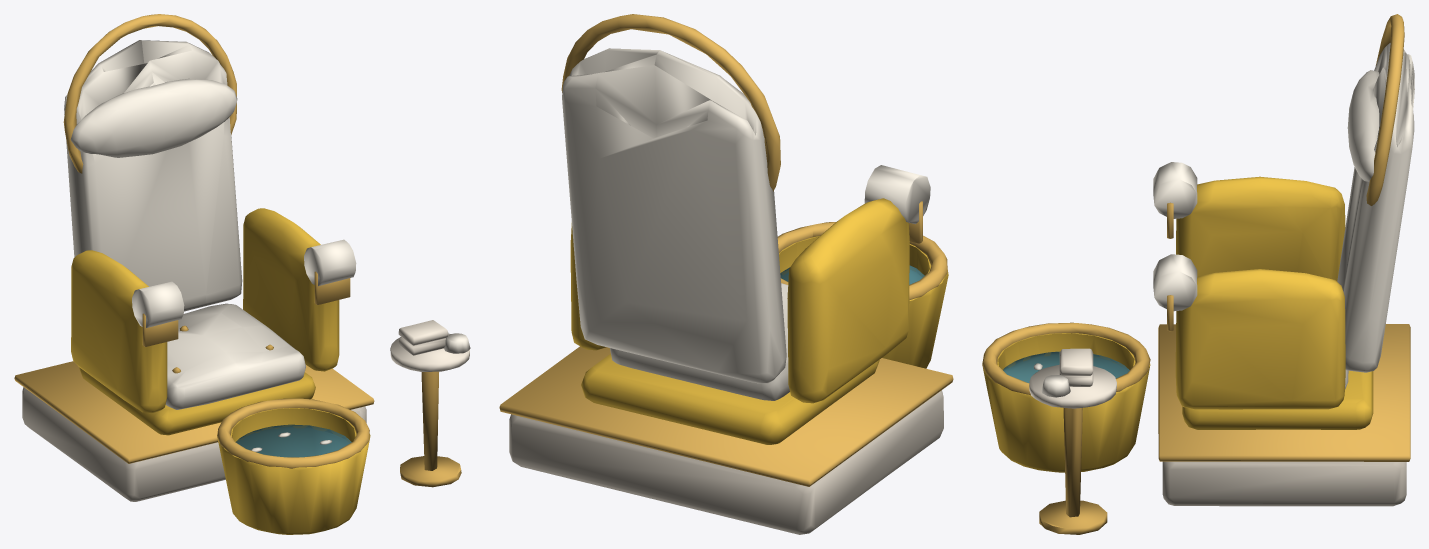
Rendered from pedicure-chair-gold.glb.
3 views of the same model, side by side, from view 1: azimuth 30°, elevation 25°; view 2: azimuth 150°, elevation 25°; view 3: azimuth 270°, elevation 25° (orthographic). The views are drawn at different scales.
Visible parts, largest first — view 1: pedicure-chair-gold; view 2: pedicure-chair-gold; view 3: pedicure-chair-gold.
Part boxes in pixels (bbox=[...]): pedicure-chair-gold: bbox=[14, 14, 470, 534]; pedicure-chair-gold: bbox=[499, 14, 953, 534]; pedicure-chair-gold: bbox=[982, 14, 1414, 534].
Bounding box in the file's own units: 1.11 × 1.36 × 1.27.
